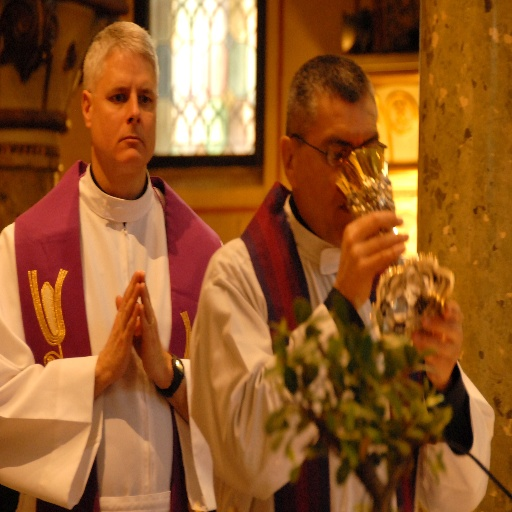hand: (332, 203, 411, 302), (114, 267, 169, 385), (412, 299, 465, 393), (98, 270, 140, 384)
